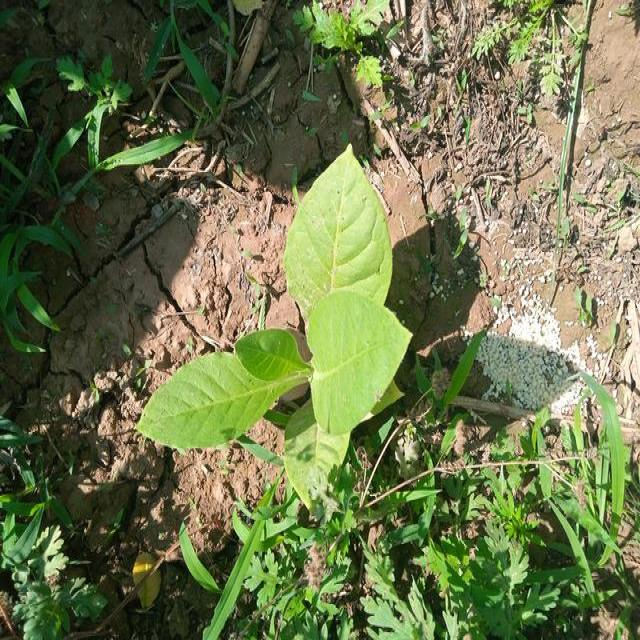crop: (135, 164, 411, 488)
